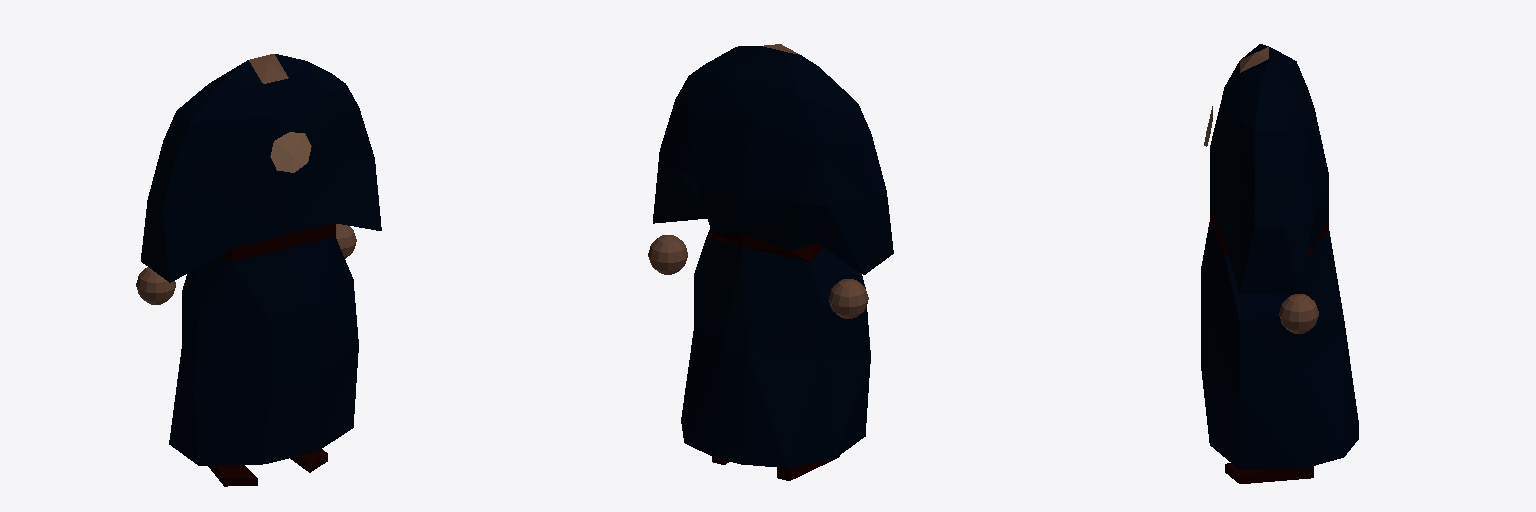
File: TwinsenBody.obj
3 renders of one model, left to right at view 1: azimuth 30°, elevation 25°; view 2: azimuth 150°, elevation 25°; view 3: azimuth 270°, elevation 25°, orthographic.
Visible parts, largest first — view 1: body, sphere0; view 2: body, sphere1, sphere0; view 3: body, sphere1.
Part boxes in pixels (x1,y1,x2,y2): body: (141, 54, 381, 486); sphere0: (136, 267, 175, 304); body: (653, 44, 893, 480); sphere1: (648, 235, 687, 274); sphere0: (829, 279, 868, 318); body: (1201, 44, 1358, 483); sphere1: (1279, 294, 1318, 333).
Bounding box in the file's own units: 0.554 × 0.998 × 0.353.